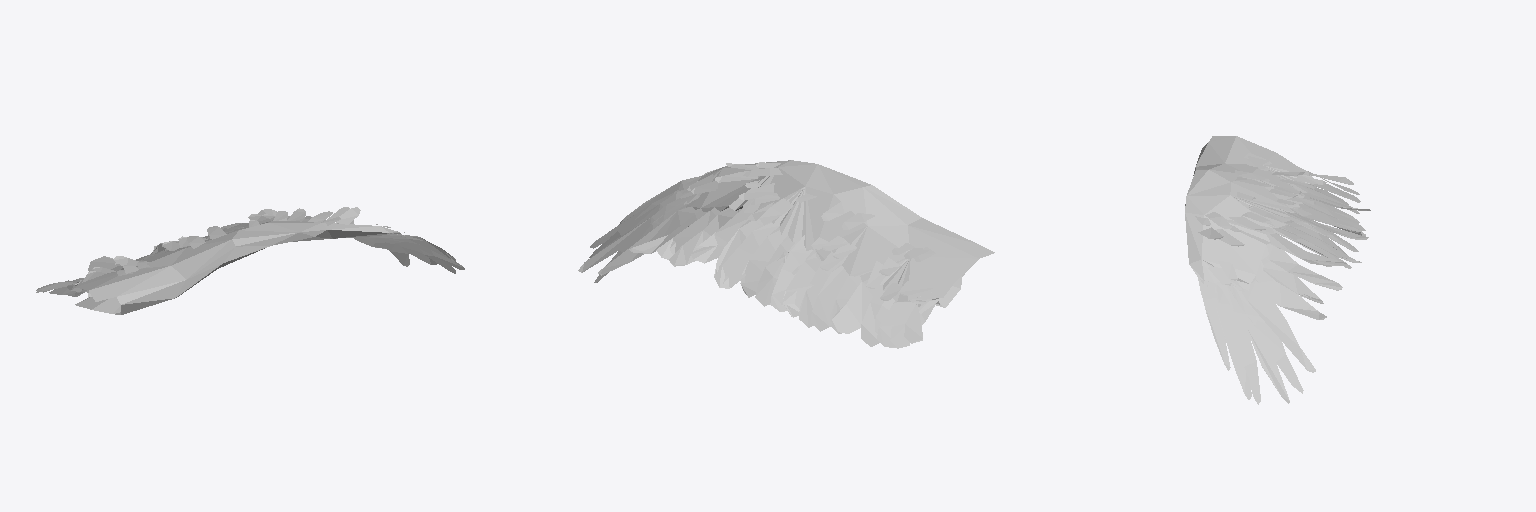
Rendered from condor_ala_izq.obj.
The picture shows the model from 3 angles: view 1: azimuth 30°, elevation 25°; view 2: azimuth 150°, elevation 25°; view 3: azimuth 270°, elevation 25°; orthographic projection.
Visible parts, largest first — view 1: ala_izq; view 2: ala_izq; view 3: ala_izq.
Boxes of the visible parts, x1=… form: ala_izq: x1=36, y1=207, x2=464, y2=314; ala_izq: x1=578, y1=160, x2=994, y2=348; ala_izq: x1=1185, y1=136, x2=1370, y2=404.
Size of the model in its own units: 1.29 by 0.3734 by 0.5505.